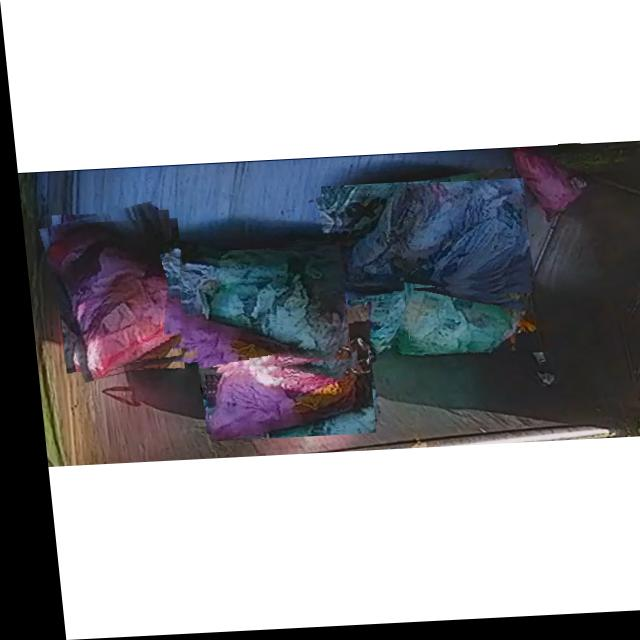general_trashbag: (172, 252, 339, 364), (283, 243, 399, 351), (383, 291, 514, 356)
other_trashbag: (330, 184, 524, 303), (42, 223, 181, 376), (202, 326, 360, 442), (509, 155, 580, 221)
